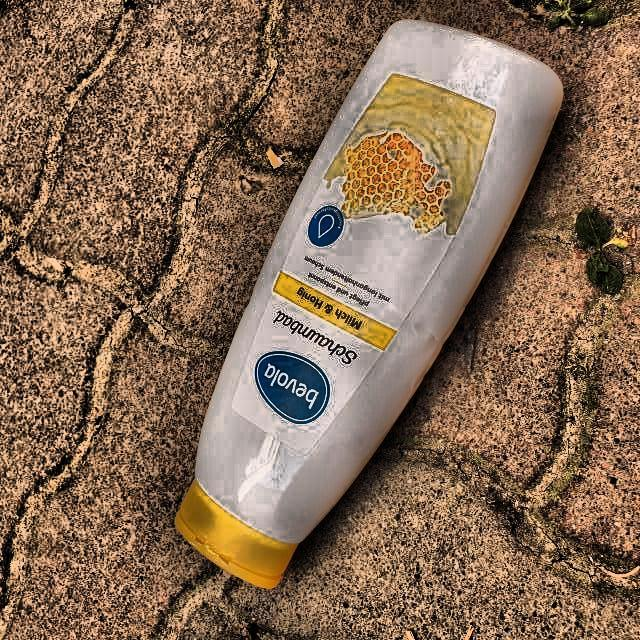plastic: (176, 21, 562, 587)
